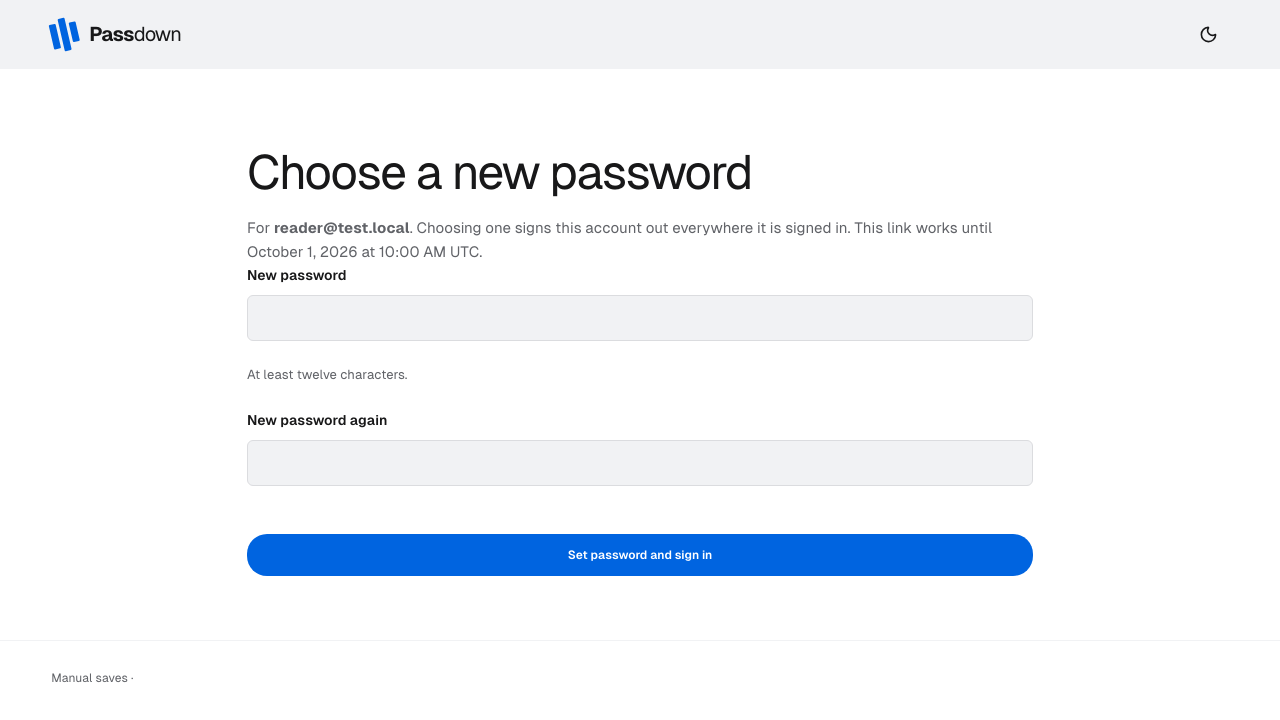
Test case: shows the account and directs a mismatch to password confirmation
expect the heading "Choose a new password" is shown: met, box x1=247 y1=145 x2=752 y2=200
Type "new-password-123" into the password field labelled "New password" at {"x": 640, "y": 318}, box x1=247 y1=295 x2=1033 y2=341
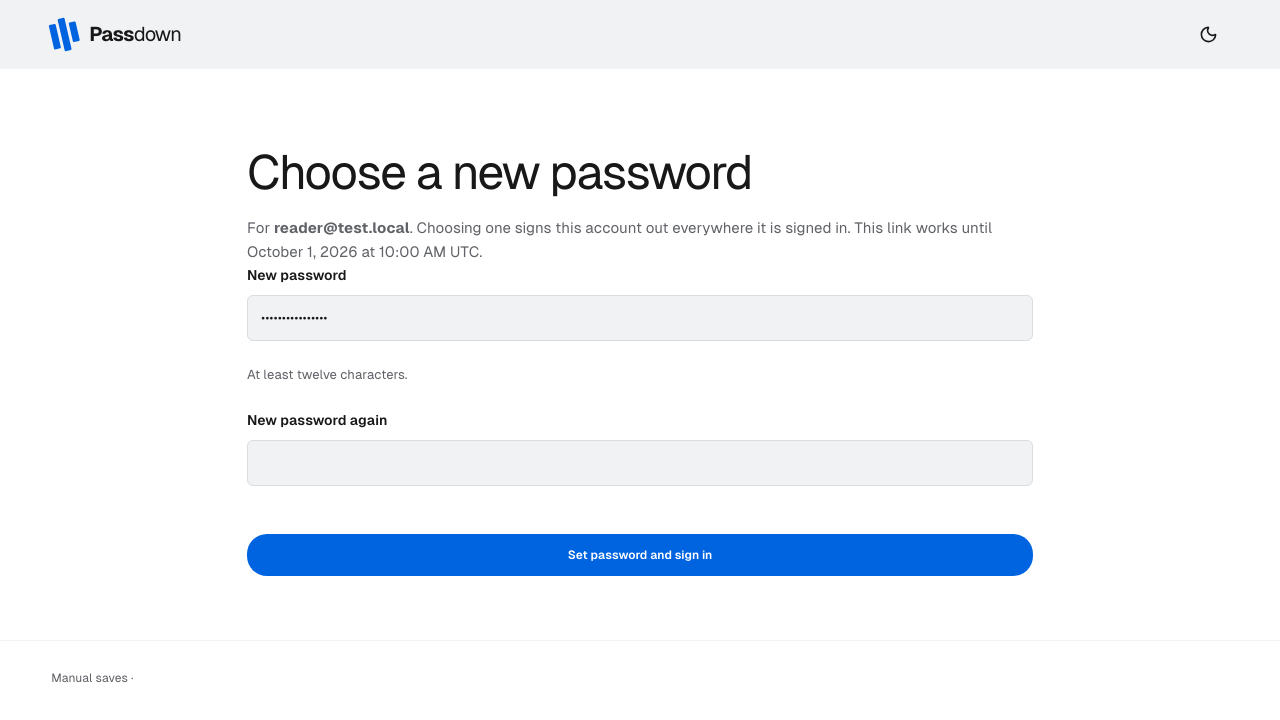
Type "different-password" into the password field labelled "New password again" at {"x": 640, "y": 463}, box x1=247 y1=440 x2=1033 y2=486
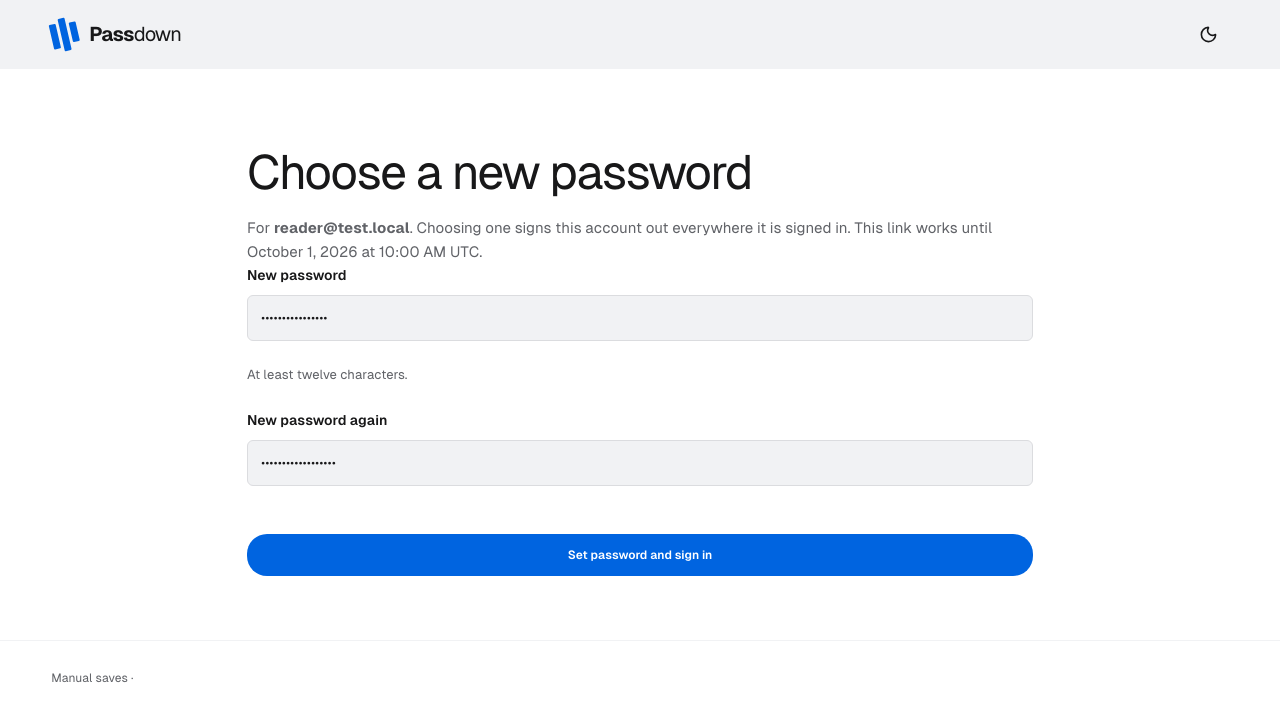
Submit the form named "Set password and sign in", box x1=247 y1=264 x2=1033 y2=576
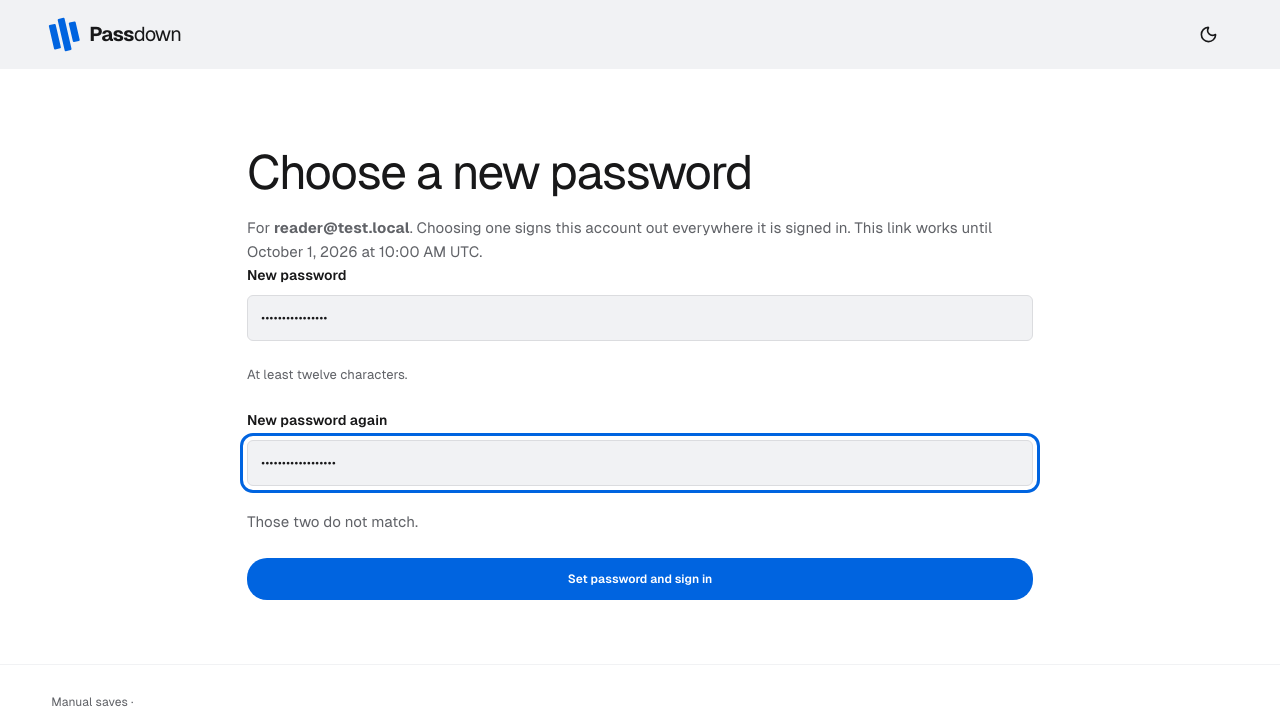
expect the text "Those two do not match." is shown: met, box x1=247 y1=513 x2=418 y2=530
